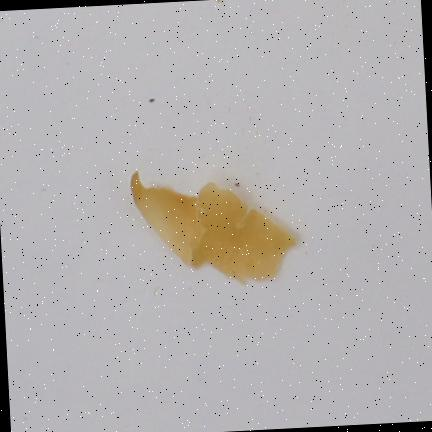parchment: (131, 173, 295, 282)
